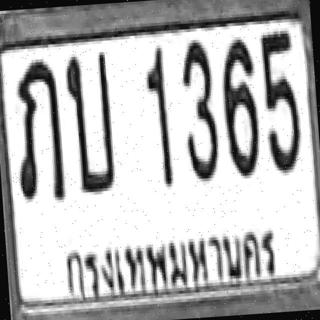A26: (62, 49, 116, 193)
A32: (9, 57, 64, 198)
N01: (141, 44, 172, 186)
N03: (177, 36, 218, 180)
N05: (259, 27, 302, 171)
N06: (219, 36, 260, 176)
P04: (56, 218, 276, 296)
